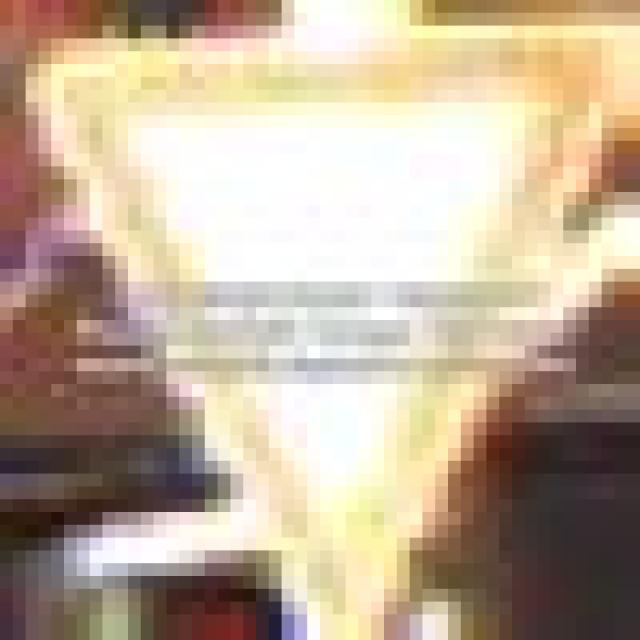gap_in_median: (13, 26, 627, 627)
